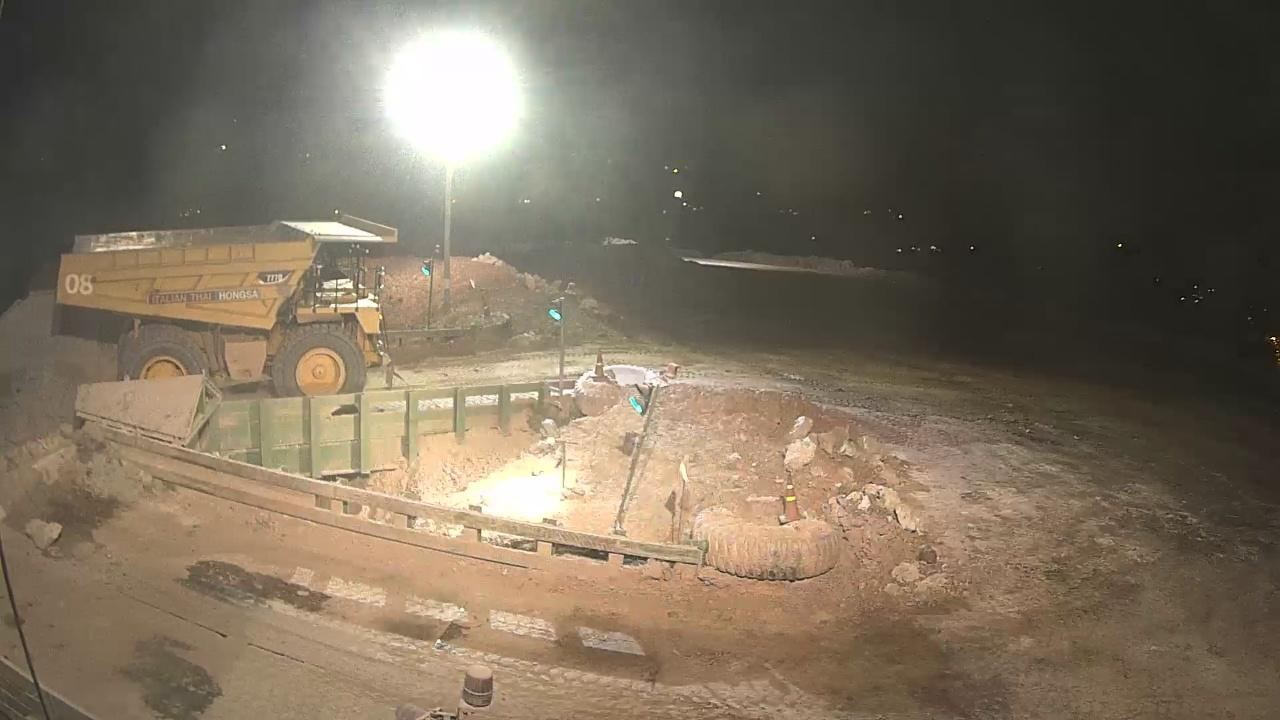mining_truck: (49, 212, 399, 400)
tail_number: (63, 270, 101, 300)
